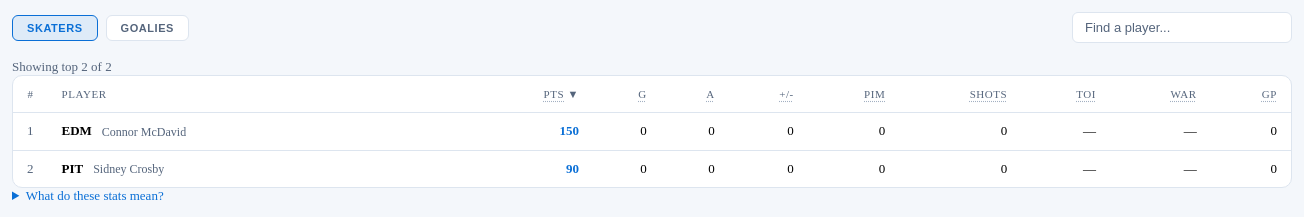
Test: LeaderboardPanel › excludes goalies from the default skaters view, and vice versa
The image size is (1304, 217).
Expected: the text "fleury" is not shown
Step 1. Click the button "GOALIES" → {"x": 147, "y": 28}, box [106, 14, 189, 40]
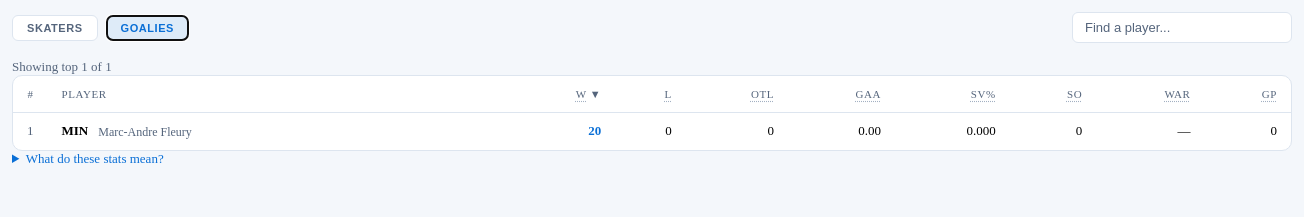
Result: the text "Marc-Andre Fleury" is shown at [98, 124, 192, 140]
Result: the text "Crosby" is gone
Result: the column heading "W ▼" is shown at [508, 76, 615, 112]
